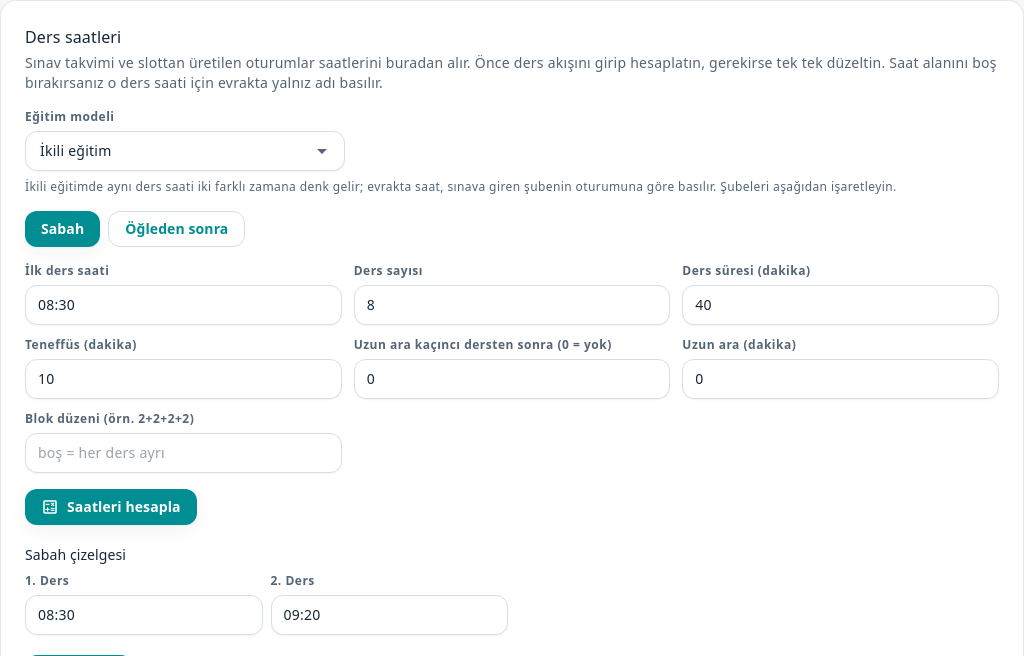
Test case: DersSaatleriPaneli › öğle oturumu sabahın bitişinden türetilir
What coordinates should you click on to do the following:
click the button "Öğleden sonra"
I would click on:
 (177, 229)
Its box is top-left (108, 211), bottom-right (245, 247).
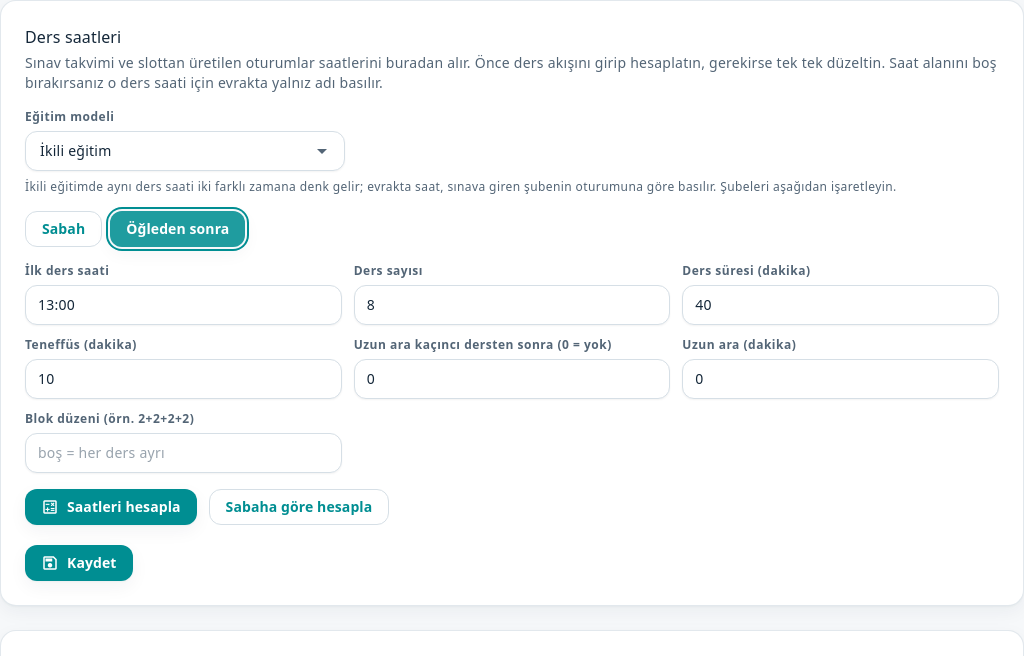
What coordinates should you click on to do the following:
click the button "Sabaha göre hesapla"
I would click on:
 (299, 507)
Its box is top-left (209, 489), bottom-right (389, 525).
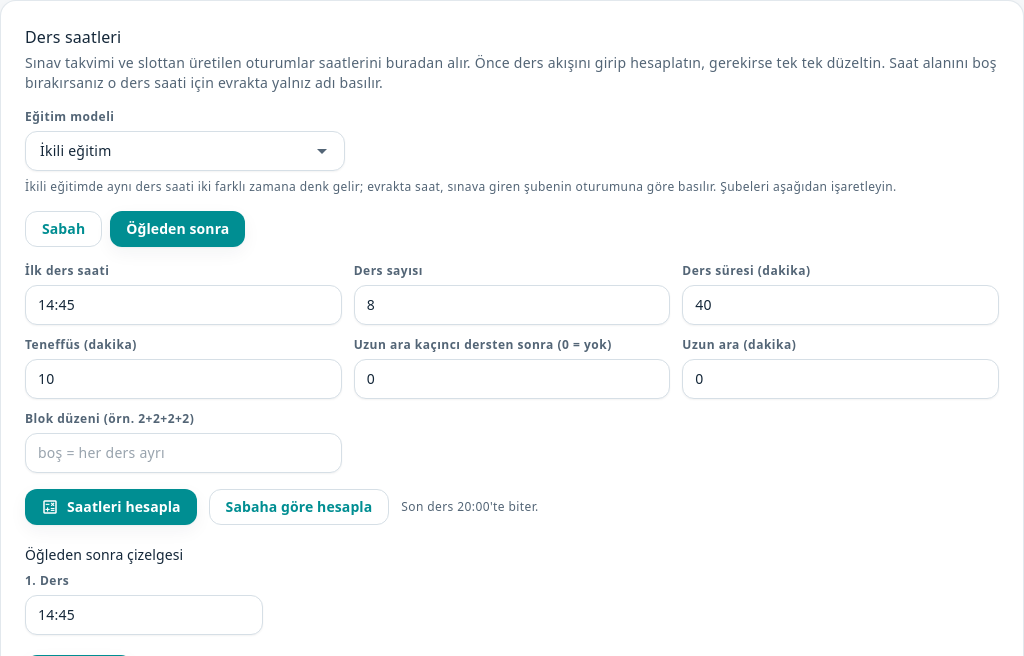
Check: the field labelled "1. Ders" holds "14:45", box top-left (38, 605), bottom-right (250, 625)
